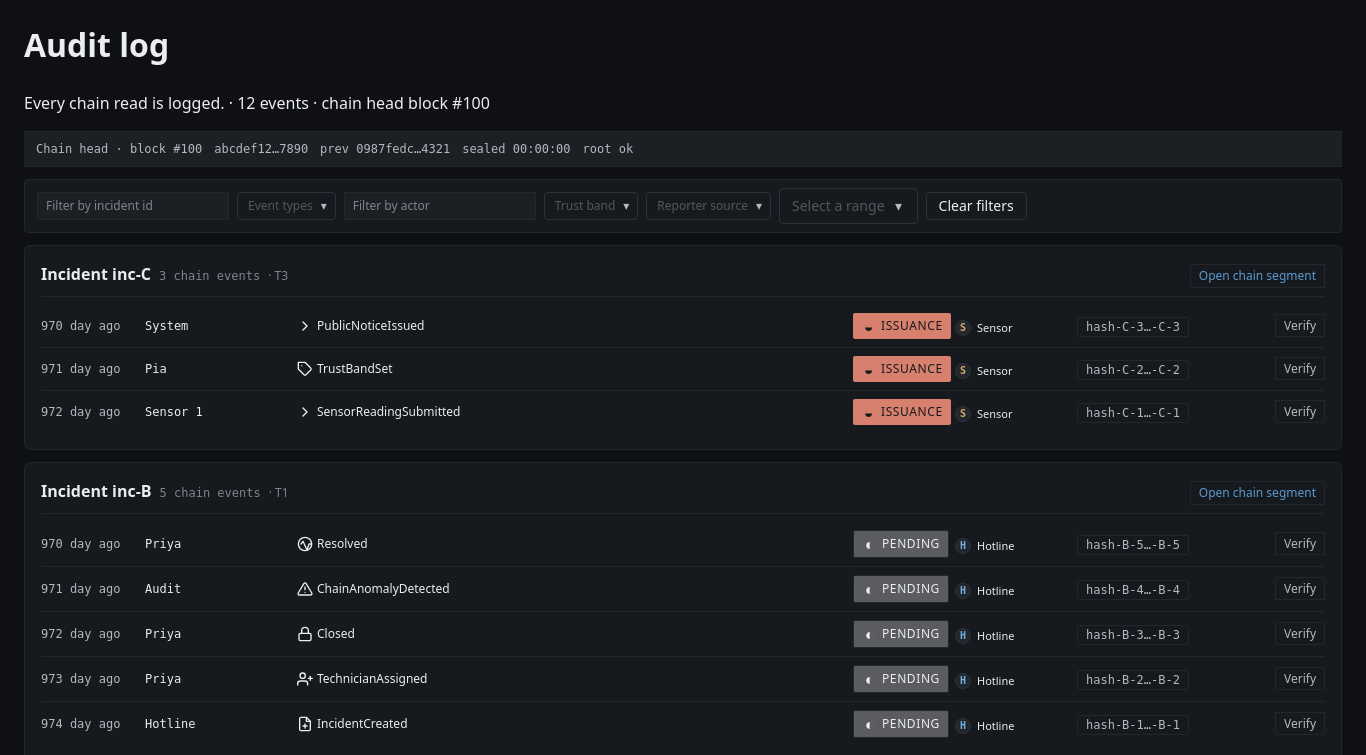
Test: WO-008 Audit Log reconciliation › surfaces anomaly: row ⚠️ + persistent top banner
This screenshot has width=1366, height=755.
Click the button with test id "audit-log-verify-btn-evt-B-4": [1300, 589] box left=1275, top=577, right=1325, bottom=600
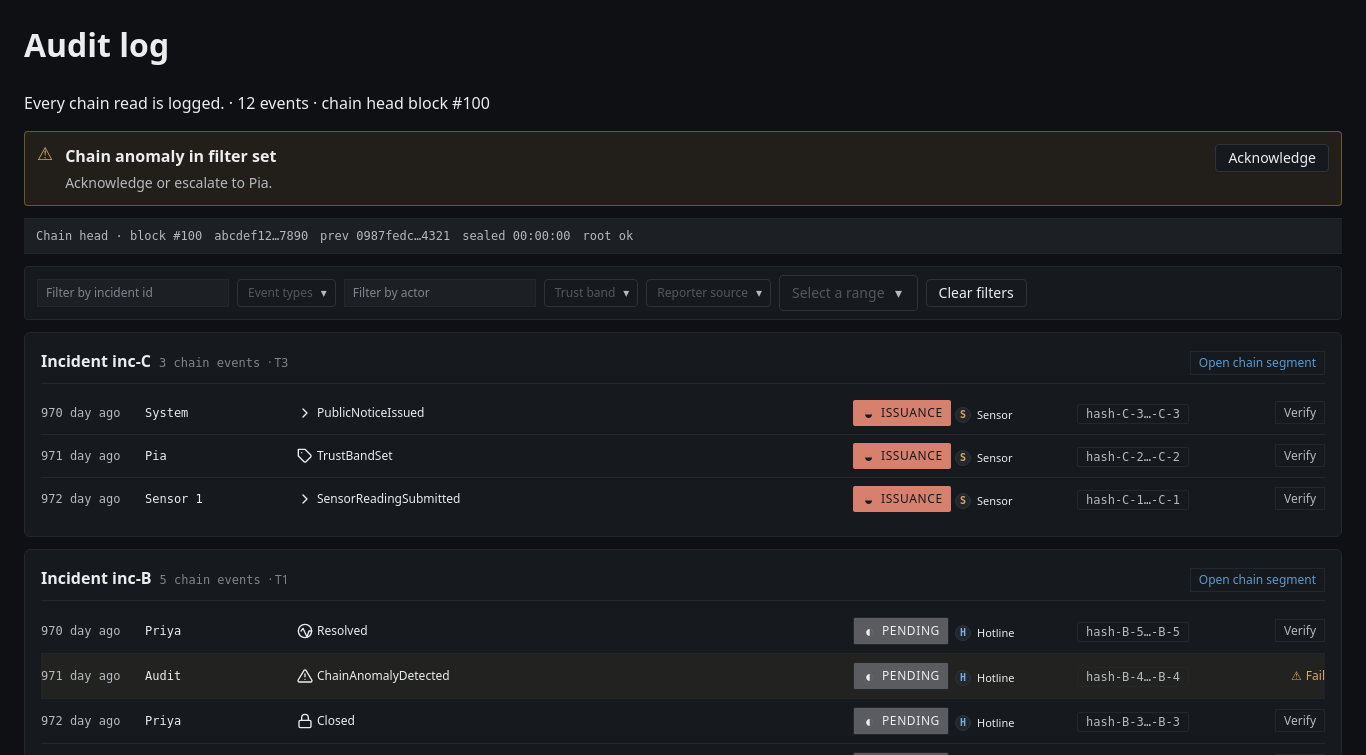
Expected: the text "⚠" is shown, left=1291, top=667, right=1302, bottom=685
Expected: the message "⚠ Chain anomaly in filter set Acknowledge or escalate to Pia. Acknowledge" is shown, left=24, top=131, right=1342, bottom=206
Expected: the button with test id "audit-log-anomaly-banner-ack" is shown, left=1215, top=144, right=1329, bottom=172
